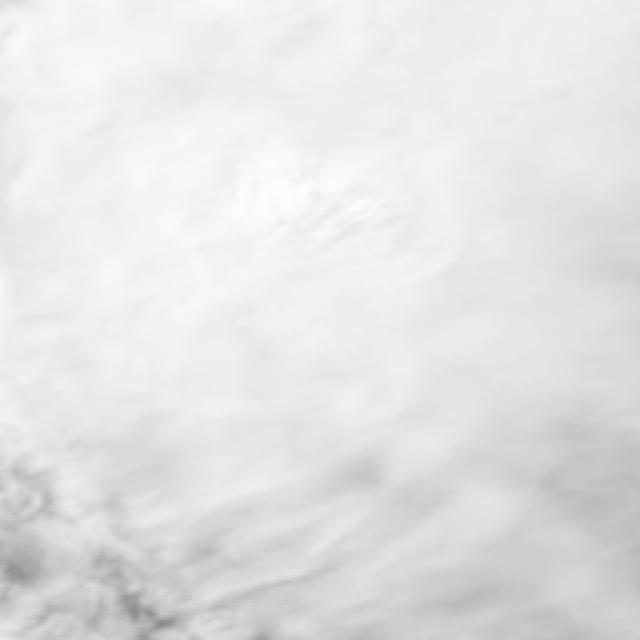CB: (162, 214, 416, 473), (412, 228, 640, 454), (0, 409, 213, 640), (383, 420, 595, 640), (0, 217, 206, 441), (453, 14, 640, 249), (150, 8, 358, 217), (203, 408, 390, 640), (0, 0, 170, 215), (356, 15, 513, 238)
